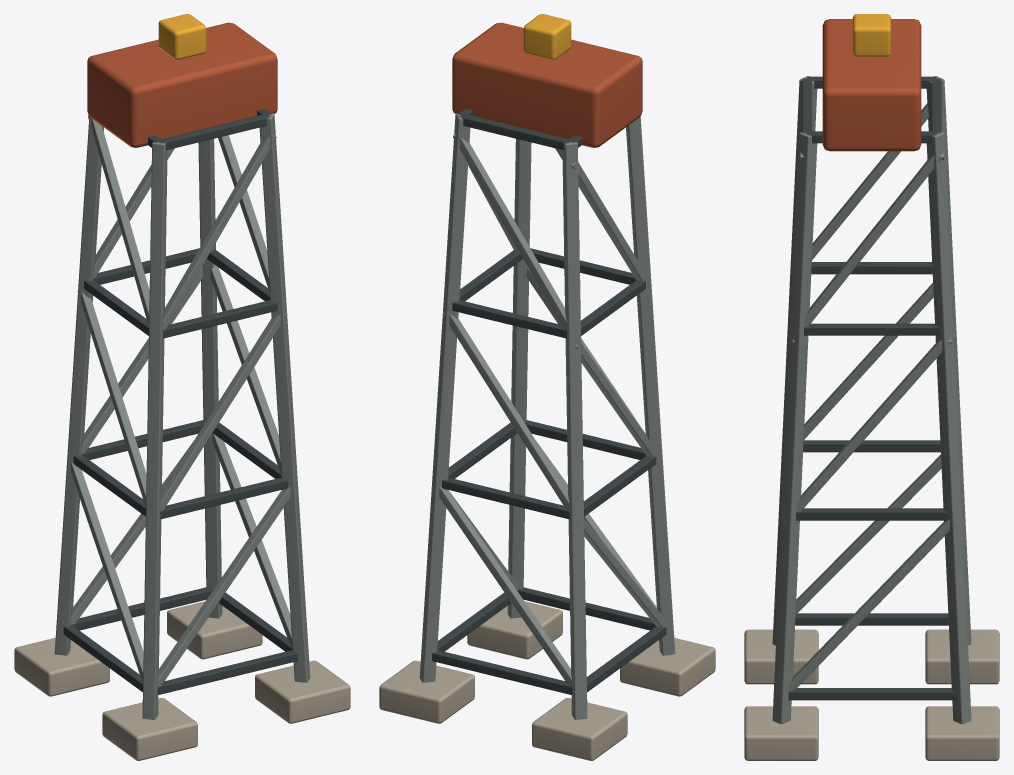
File: signal_tower.glb
3 renders of one model, left to right at view 1: azimuth 30°, elevation 25°; view 2: azimuth 150°, elevation 25°; view 3: azimuth 270°, elevation 25°, orthographic. The views are drawn at different scales.
Visible parts, largest first — view 1: Signal cabinet, Main post, Main post.002, Main post.001, Main post.003, Concrete base.002, Concrete base, Concrete base.001, Concrete base.003, Diagonal.001, Diagonal.005, Diagonal.009 (+23 smaller); view 2: Signal cabinet, Main post.001, Main post.003, Main post, Main post.002, Concrete base.003, Concrete base.001, Concrete base, Concrete base.002, Diagonal.003, Diagonal.007, Diagonal.011 (+19 smaller); view 3: Signal cabinet, Main post.002, Main post.003, Concrete base.002, Concrete base.003, Concrete base.001, Concrete base, Diagonal.002, Diagonal.006, Main post, Main post.001, Diagonal.010 (+12 smaller).
Part boxes in pixels (box(x1,y1,x2,y2)): Signal cabinet: box(87, 22, 277, 147); Main post: box(142, 142, 167, 719); Main post.002: box(259, 113, 310, 682); Main post.001: box(54, 117, 103, 655); Main post.003: box(198, 139, 222, 618); Concrete base.002: box(255, 660, 350, 723); Concrete base: box(102, 698, 197, 760); Concrete base.001: box(14, 638, 109, 696); Concrete base.003: box(167, 601, 262, 659); Diagonal.001: box(157, 487, 296, 686); Diagonal.005: box(160, 313, 286, 510); Diagonal.009: box(163, 135, 276, 329); Signal cabinet: box(452, 22, 642, 147); Main post.001: box(562, 142, 587, 719); Main post.003: box(419, 113, 470, 682); Main post: box(626, 117, 675, 655); Main post.002: box(507, 139, 531, 618); Concrete base.003: box(379, 660, 474, 723); Concrete base.001: box(532, 698, 627, 760); Concrete base: box(620, 638, 715, 696); Concrete base.002: box(467, 601, 562, 659); Diagonal.003: box(433, 487, 572, 686); Diagonal.007: box(443, 313, 569, 510); Diagonal.011: box(453, 135, 566, 329); Signal cabinet: box(822, 19, 921, 151); Main post.002: box(772, 132, 817, 724); Main post.003: box(926, 132, 971, 724); Concrete base.002: box(744, 706, 818, 760); Concrete base.003: box(925, 706, 999, 760); Concrete base.001: box(925, 629, 999, 684); Concrete base: box(744, 629, 818, 684); Diagonal.002: box(789, 519, 957, 691); Diagonal.006: box(796, 340, 950, 511); Main post: box(772, 76, 817, 645); Main post.001: box(926, 76, 971, 645); Diagonal.010: box(804, 154, 942, 327).
Size of the model in its own units: 1.86 by 5.54 by 1.86.
